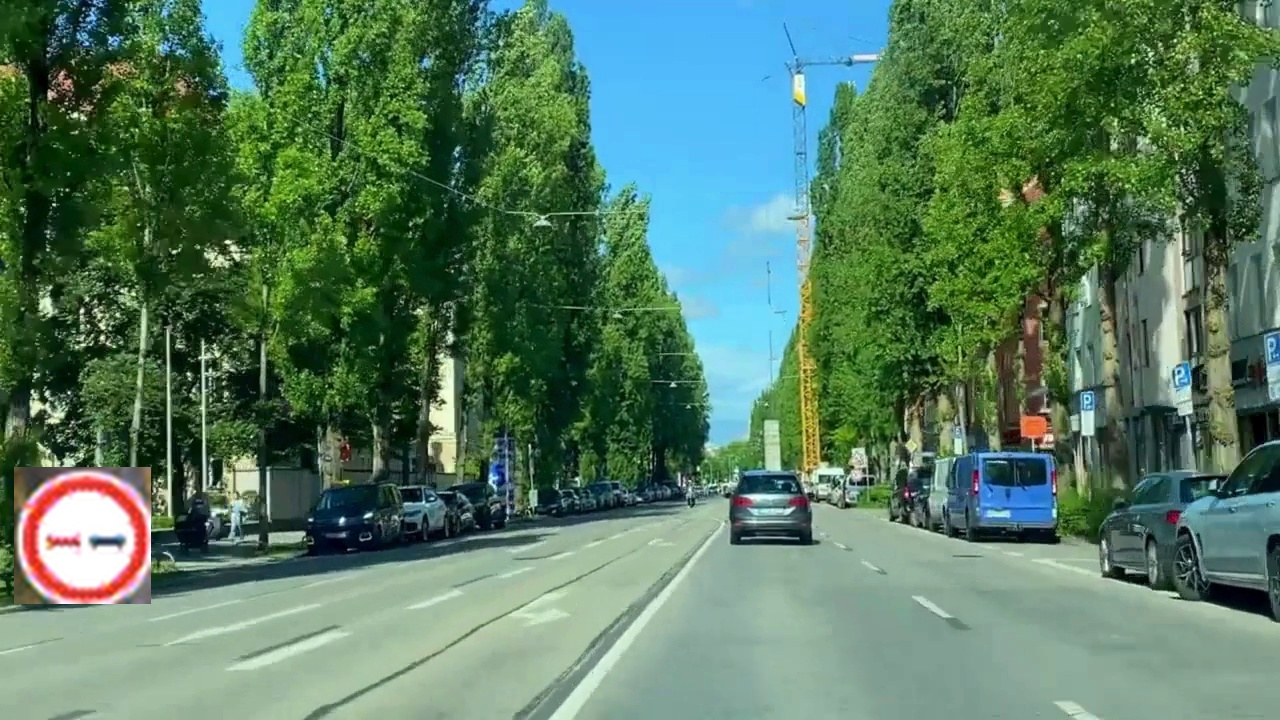No passing: (14, 467, 151, 604)
